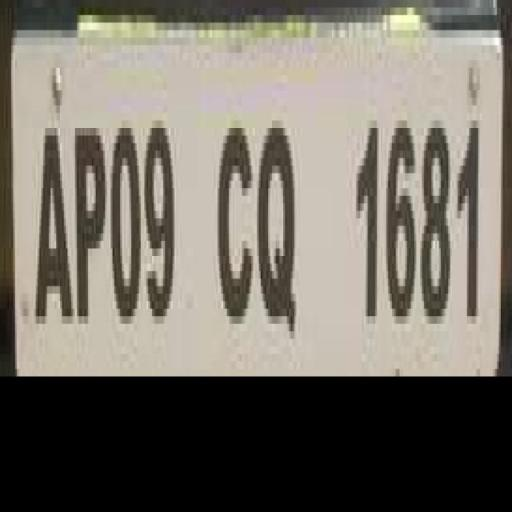number plate: (8, 13, 512, 382)
